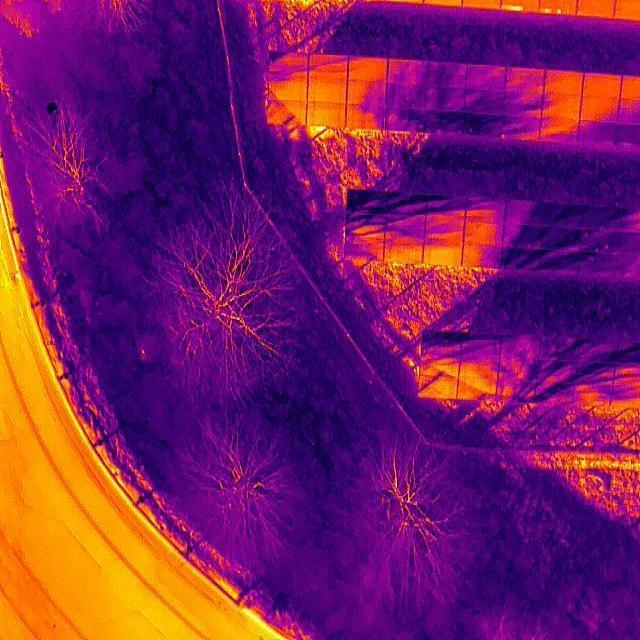No-Anomaly: (348, 55, 387, 83), (307, 79, 347, 105), (307, 101, 345, 128), (582, 74, 621, 98), (545, 70, 582, 95), (581, 98, 619, 122), (424, 245, 462, 266), (576, 0, 615, 19)
Shadowing: (387, 56, 427, 85), (419, 332, 461, 358), (576, 254, 617, 280), (267, 75, 308, 101), (507, 200, 547, 226), (584, 206, 624, 232), (427, 62, 467, 88), (503, 66, 543, 92), (425, 86, 465, 112), (425, 220, 464, 246), (347, 80, 386, 106), (503, 224, 545, 248), (497, 336, 539, 360), (346, 105, 386, 130), (466, 112, 504, 138), (387, 194, 428, 218), (384, 218, 425, 242), (466, 65, 505, 90), (497, 378, 534, 404), (347, 190, 387, 214), (545, 204, 585, 228), (581, 232, 621, 256), (386, 84, 426, 108), (267, 101, 307, 125), (386, 109, 427, 132), (467, 198, 506, 222), (309, 55, 348, 79), (427, 111, 466, 135), (500, 248, 542, 270), (426, 196, 466, 219), (457, 376, 497, 399), (466, 89, 506, 112), (543, 228, 581, 252), (506, 92, 544, 116), (544, 94, 582, 118), (540, 118, 581, 140), (383, 243, 424, 265), (580, 121, 619, 144), (541, 250, 578, 274), (460, 335, 502, 356), (503, 115, 543, 137), (345, 240, 385, 262), (536, 360, 576, 382), (269, 52, 309, 74), (462, 246, 500, 269), (347, 214, 383, 238), (540, 340, 579, 362), (464, 223, 502, 245), (459, 357, 498, 378), (420, 358, 460, 378), (498, 360, 538, 380), (417, 378, 457, 398), (572, 382, 612, 402), (533, 384, 573, 404), (576, 361, 615, 381), (578, 342, 616, 362)
